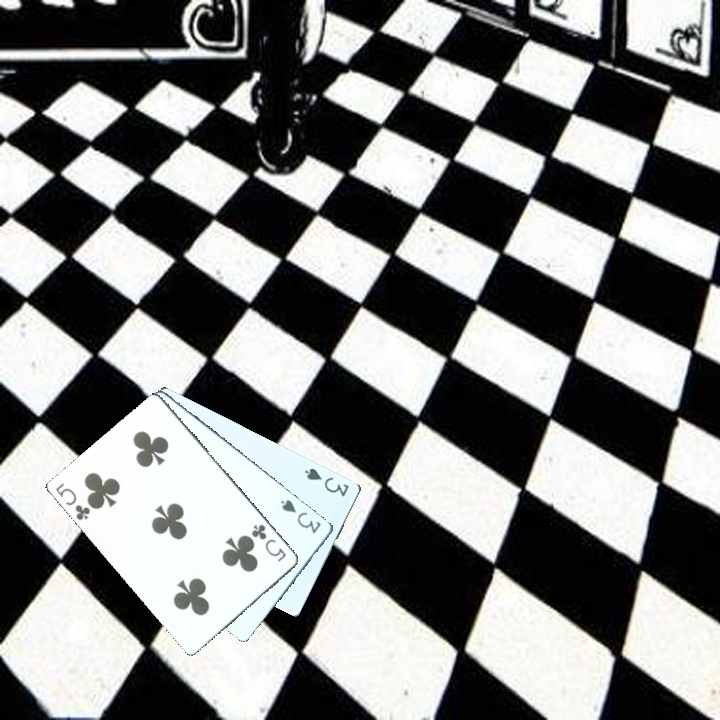3s: (277, 495, 323, 536), (301, 464, 351, 499)
5c: (247, 520, 289, 564), (51, 479, 93, 523)
